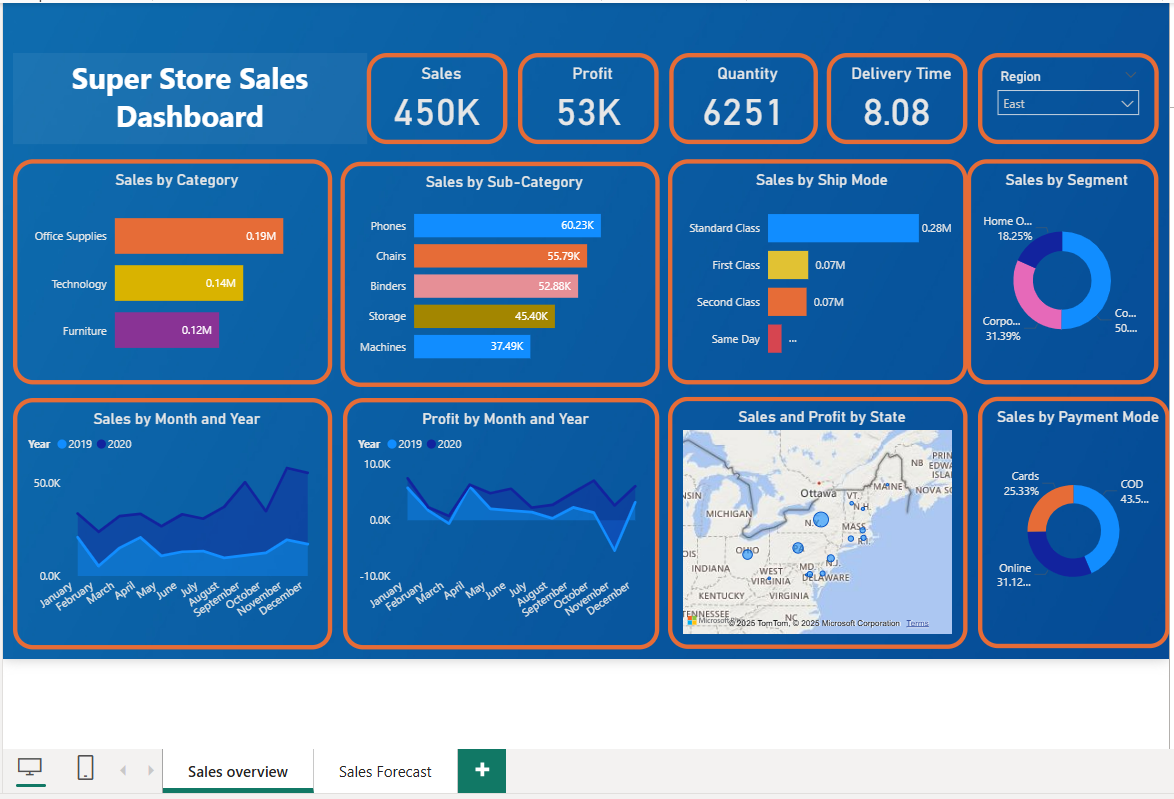

This screenshot's page, from the dashboard's own definition file:
{"tool":"powerbi","page":{"name":"Page 1","canvas":[1280,720],"ordinal":0},"visuals":[{"type":"barChart","title":" Sales by Category","fields":{"Category":["SuperStore_Sales_Dataset.Category"],"Y":["Sum(SuperStore_Sales_Dataset.Sales)"]},"box":[11.4,171.4,350,247.1],"z":0},{"type":"barChart","title":" Sales by Sub-Category","fields":{"Y":["Sum(SuperStore_Sales_Dataset.Sales)"],"Category":["SuperStore_Sales_Dataset.Sub-Category"]},"box":[370,174.3,350,247.1],"z":1000},{"type":"barChart","title":" Sales by Ship Mode","fields":{"Y":["Sum(SuperStore_Sales_Dataset.Sales)"],"Category":["SuperStore_Sales_Dataset.Ship Mode"]},"box":[730,171.4,328.6,247.1],"z":2000},{"type":"stackedAreaChart","title":" Sales by Month and Year","fields":{"Y":["Sum(SuperStore_Sales_Dataset.Sales)"],"Category":["SuperStore_Sales_Dataset.Order Date.Variation.Date Hierarchy.Month"],"Series":["SuperStore_Sales_Dataset.Order Date.Variation.Date Hierarchy.Year"]},"box":[11.4,434.3,350,275.7],"z":3000},{"type":"stackedAreaChart","title":"Profit by Month and Year","fields":{"Category":["SuperStore_Sales_Dataset.Order Date.Variation.Date Hierarchy.Month"],"Series":["SuperStore_Sales_Dataset.Order Date.Variation.Date Hierarchy.Year"],"Y":["Sum(SuperStore_Sales_Dataset.Profit)"]},"box":[372.9,434.3,347.1,275.7],"z":4000},{"type":"map","title":"Sales and Profit by State","fields":{"Category":["SuperStore_Sales_Dataset.State"],"Size":["Sum(SuperStore_Sales_Dataset.Sales)"]},"box":[730,432.9,328.6,277.1],"z":5000},{"type":"donutChart","title":" Sales by Segment","fields":{"Y":["Sum(SuperStore_Sales_Dataset.Sales)"],"Category":["SuperStore_Sales_Dataset.Segment"]},"box":[1058.6,171.4,210,247.1],"z":6000},{"type":"donutChart","title":" Sales by Payment Mode","fields":{"Y":["Sum(SuperStore_Sales_Dataset.Sales)"],"Category":["SuperStore_Sales_Dataset.Payment Mode"]},"box":[1070,432.9,210,275.7],"z":7000},{"type":"slicer","fields":{"Values":["SuperStore_Sales_Dataset.Region"]},"box":[1070,54.3,198.6,100],"z":8000},{"type":"textbox","box":[11.4,54.3,388.6,100],"z":8001},{"type":"card","title":"Sales","fields":{"Values":["Sum(SuperStore_Sales_Dataset.Sales)"]},"box":[400,54.3,154.3,100],"z":8002},{"type":"card","title":"Profit","fields":{"Values":["Sum(SuperStore_Sales_Dataset.Profit)"]},"box":[565.7,54.3,154.3,100],"z":8003},{"type":"card","title":"Quantity","fields":{"Values":["Sum(SuperStore_Sales_Dataset.Quantity)"]},"box":[731.4,54.3,162.9,100],"z":8004},{"type":"card","title":"Delivery Time","fields":{"Values":["Avg(SuperStore_Sales_Dataset.Avgdelivery)"]},"box":[904.3,54.3,154.3,100],"z":8005}]}

Visuals, with their boxes on the page's 1280x720 design canvas (x1, y1, x2, y2). These are canvas units, not pixel positions in the 1174x799 screenshot, which may show the page scaled, cropped or inside an application window:
" Sales by Category" barChart: locate(11, 171, 361, 418)
" Sales by Sub-Category" barChart: locate(370, 174, 720, 421)
" Sales by Ship Mode" barChart: locate(730, 171, 1059, 418)
" Sales by Month and Year" stackedAreaChart: locate(11, 434, 361, 710)
"Profit by Month and Year" stackedAreaChart: locate(373, 434, 720, 710)
"Sales and Profit by State" map: locate(730, 433, 1059, 710)
" Sales by Segment" donutChart: locate(1059, 171, 1269, 418)
" Sales by Payment Mode" donutChart: locate(1070, 433, 1280, 709)
slicer - SuperStore_Sales_Dataset.Region: locate(1070, 54, 1269, 154)
textbox: locate(11, 54, 400, 154)
"Sales" card: locate(400, 54, 554, 154)
"Profit" card: locate(566, 54, 720, 154)
"Quantity" card: locate(731, 54, 894, 154)
"Delivery Time" card: locate(904, 54, 1059, 154)
